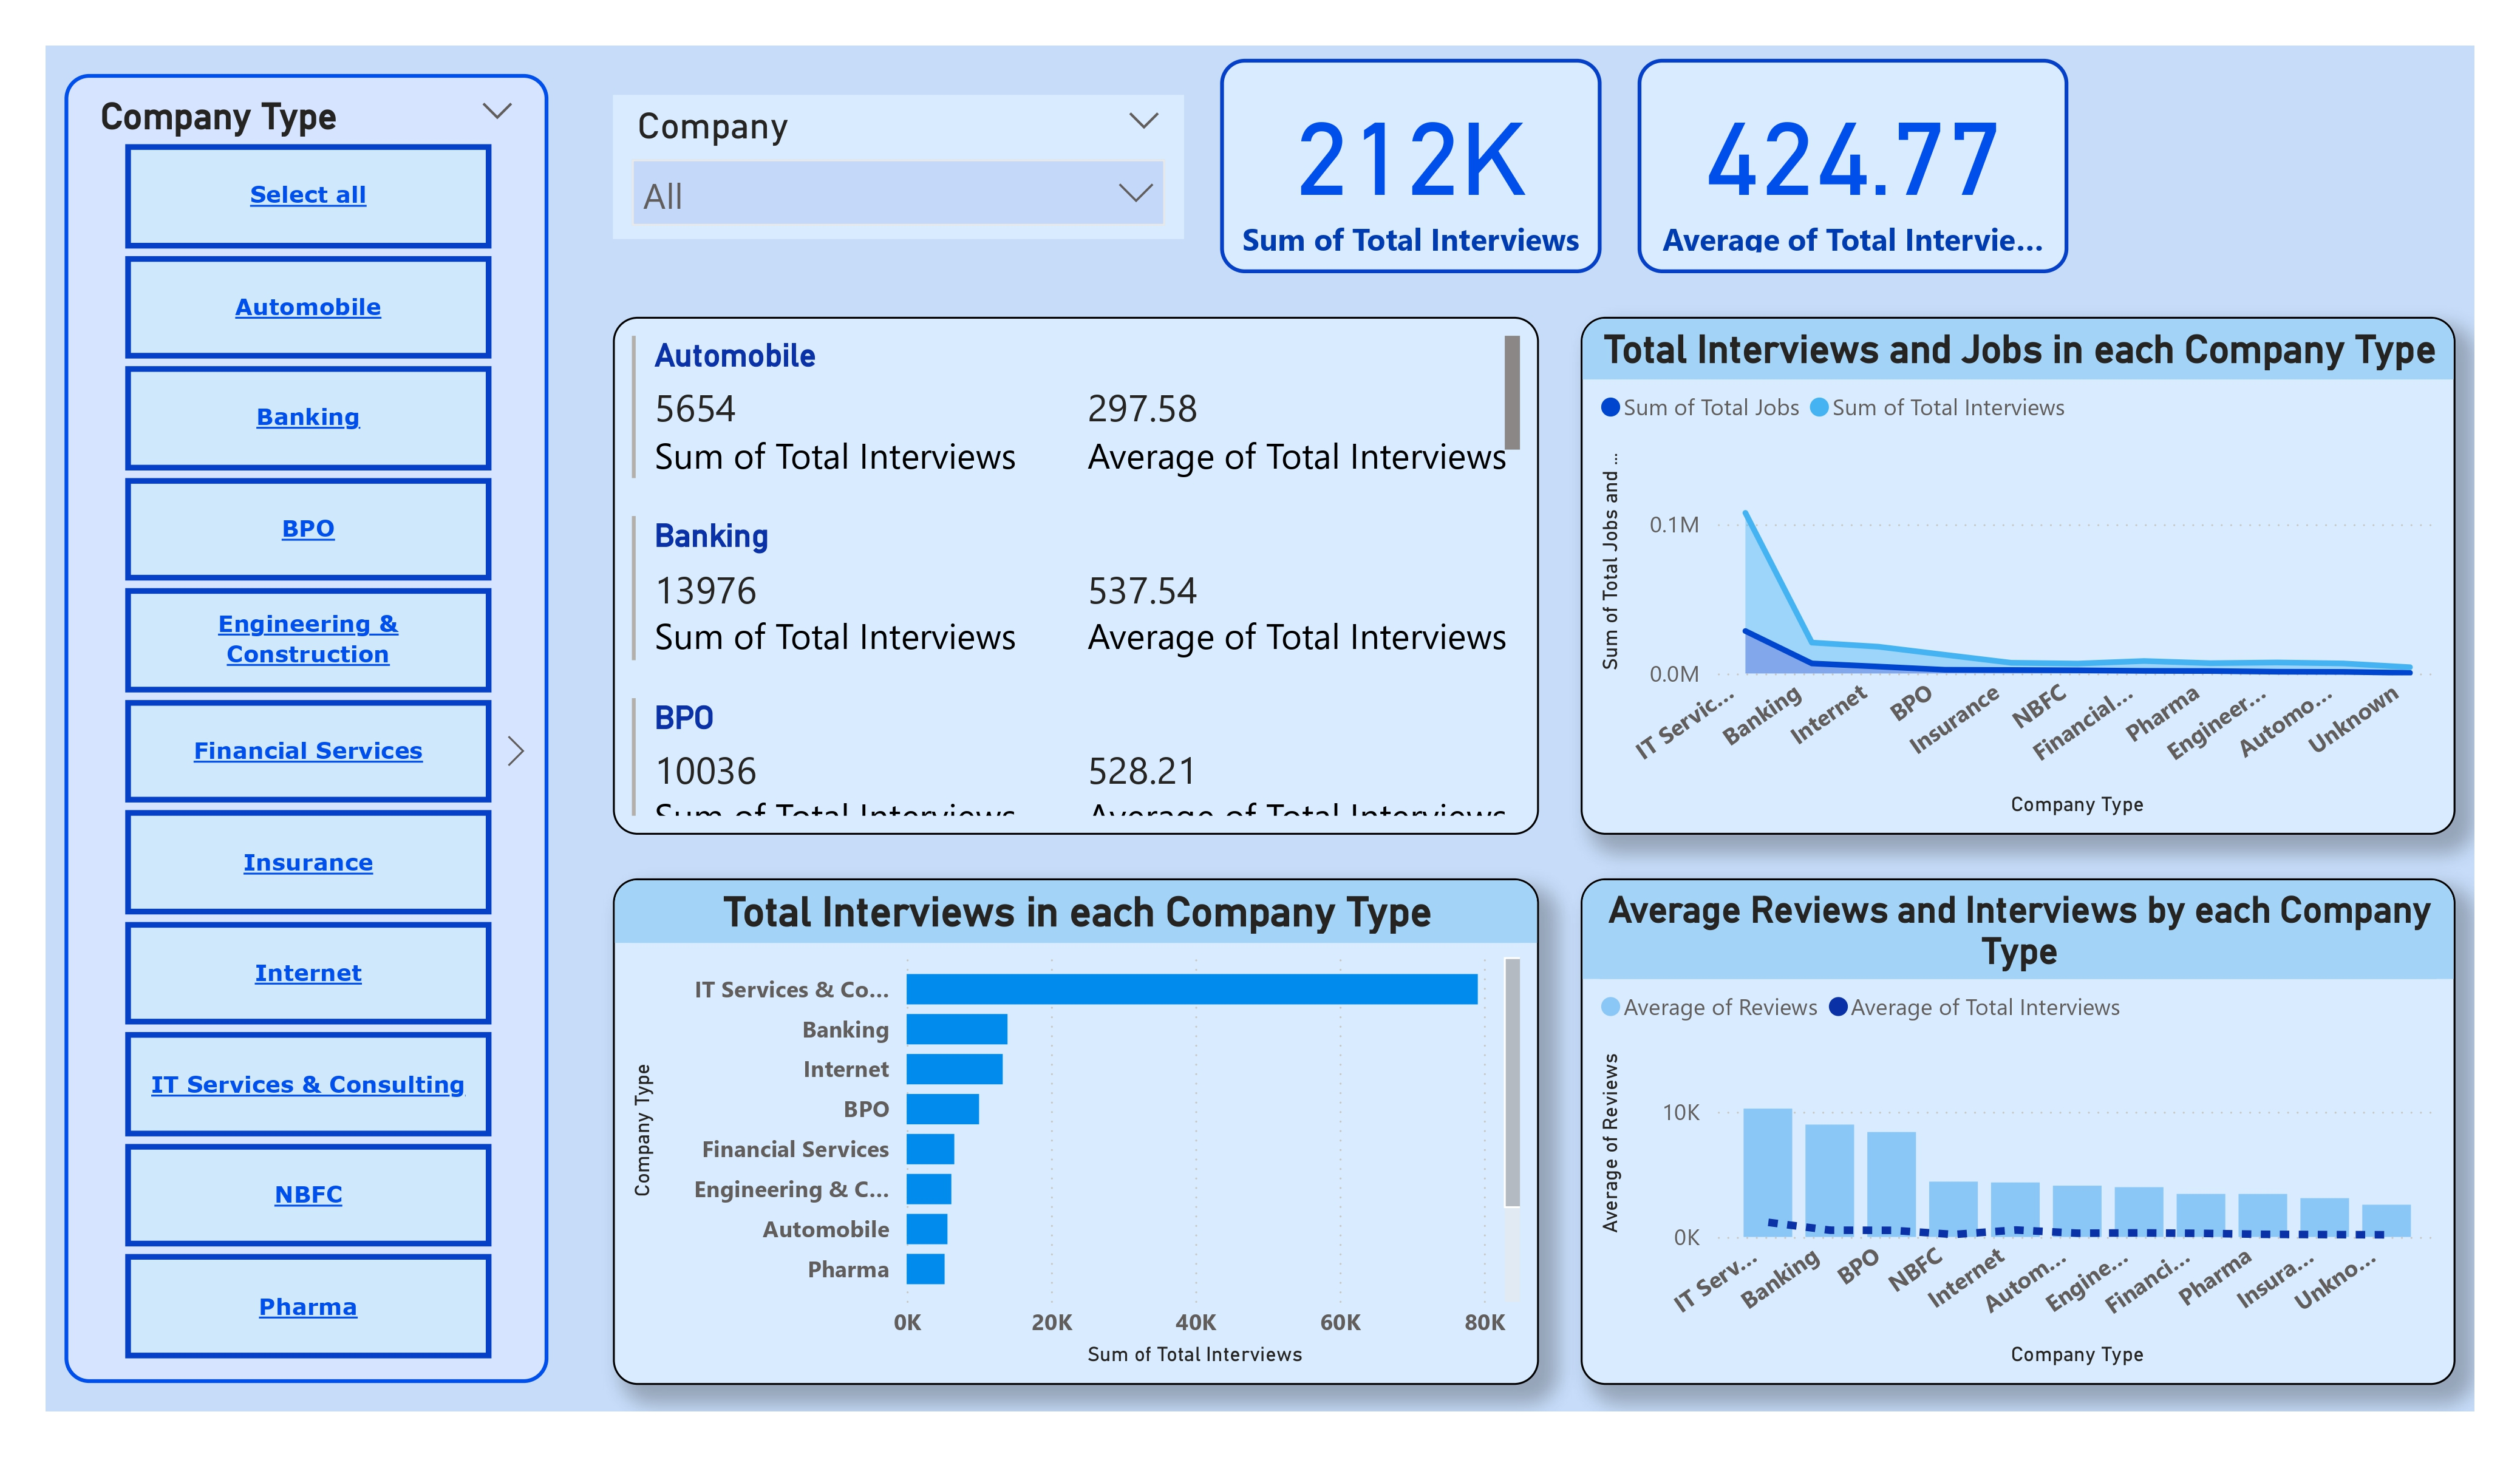

This screenshot's page, from the dashboard's own definition file:
{"tool":"powerbi","page":{"name":"Analysis on Interviews","canvas":[1280,720],"ordinal":2},"visuals":[{"type":"slicer","fields":{"Values":["Companies_500_Cleaned.Company Type"]},"box":[9.6,15.1,255.2,690.2],"z":0},{"type":"slicer","fields":{"Values":["Companies_500_Cleaned.Company"]},"box":[299.1,26.1,300.5,75.5],"z":1000},{"type":"barChart","title":"Total Interviews in each Company Type","fields":{"Category":["Companies_500_Cleaned.Company Type"],"Y":["Sum(Companies_500_Cleaned.Total Interviews)"]},"box":[298.6,438.6,488.6,267.1],"z":2000},{"type":"stackedAreaChart","title":"Total Interviews and Jobs in each Company Type","fields":{"Category":["Companies_500_Cleaned.Company Type"],"Y":["Sum(Companies_500_Cleaned.Total Jobs)","Sum(Companies_500_Cleaned.Total Interviews)"]},"box":[808.6,142.9,461.4,272.9],"z":3000},{"type":"lineClusteredColumnComboChart","title":"Average Reviews and Interviews by each Company Type","fields":{"Category":["Companies_500_Cleaned.Company Type"],"Y":["Avg(Companies_500_Cleaned.Reviews)"],"Y2":["Avg(Companies_500_Cleaned.Total Interviews)"]},"box":[808.6,438.6,461.4,267.1],"z":4000},{"type":"multiRowCard","fields":{"Values":["Companies_500_Cleaned.Company Type","Sum(Companies_500_Cleaned.Total Interviews)1","Avg(Companies_500_Cleaned.Total Interviews)"]},"box":[298.6,142.9,488.6,272.9],"z":5000},{"type":"card","fields":{"Values":["Sum(Companies_500_Cleaned.Total Interviews)"]},"box":[618.6,7.1,201.4,112.9],"z":6000},{"type":"card","fields":{"Values":["Avg(Companies_500_Cleaned.Total Interviews)"]},"box":[838.6,7.1,227.1,112.9],"z":7000}]}

Visuals, with their boxes in screenshot pixels (x1, y1, x2, y2):
slicer - Companies_500_Cleaned.Company Type: select_region(64, 74, 548, 1384)
slicer - Companies_500_Cleaned.Company: select_region(613, 95, 1183, 238)
"Total Interviews in each Company Type" barChart: select_region(612, 878, 1539, 1384)
"Total Interviews and Jobs in each Company Type" stackedAreaChart: select_region(1580, 317, 2456, 834)
"Average Reviews and Interviews by each Company Type" lineClusteredColumnComboChart: select_region(1580, 878, 2456, 1384)
multiRowCard - Companies_500_Cleaned.Company Type x Sum(Companies_500_Cleaned.Total Interviews)1: select_region(612, 317, 1539, 834)
card - Sum(Companies_500_Cleaned.Total Interviews): select_region(1219, 59, 1602, 273)
card - Avg(Companies_500_Cleaned.Total Interviews): select_region(1637, 59, 2068, 273)
